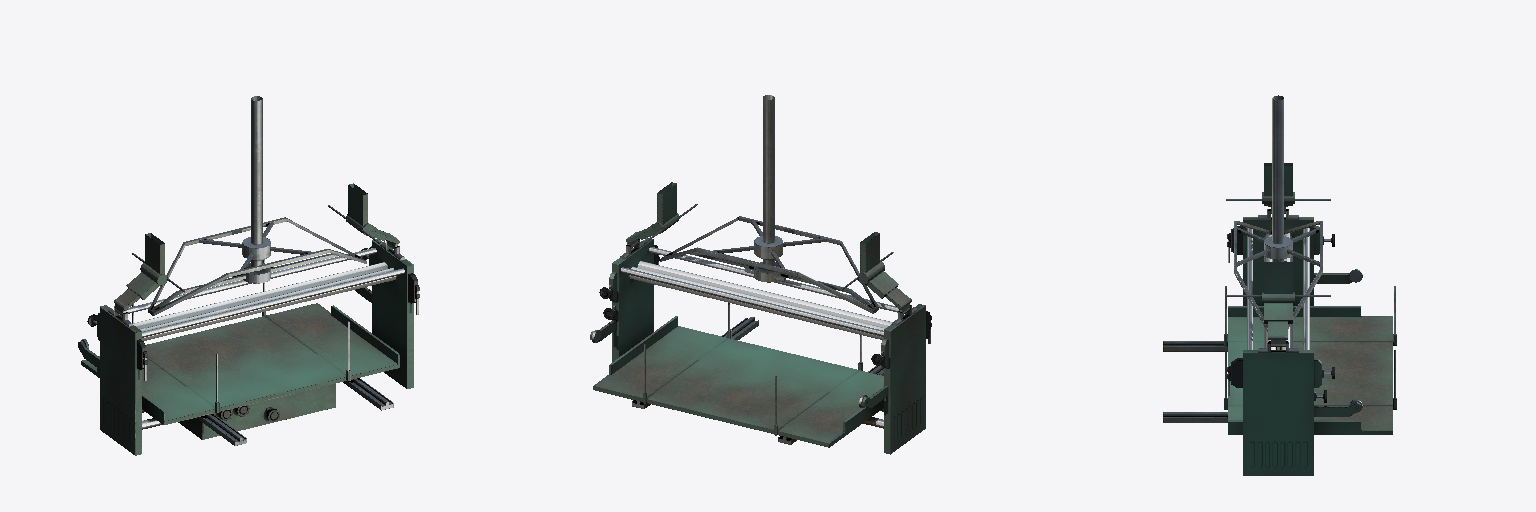
The picture shows the model from 3 angles: view 1: azimuth 30°, elevation 25°; view 2: azimuth 150°, elevation 25°; view 3: azimuth 270°, elevation 25°; orthographic projection.
Parts seen in each view (by area): view 1: rotor:pCube4; view 2: rotor:pCube4; view 3: rotor:pCube4.
Boxes of the visible parts, box(x1,y1,x2,y2) form: rotor:pCube4: box(78, 96, 419, 455); rotor:pCube4: box(590, 95, 931, 454); rotor:pCube4: box(1163, 95, 1396, 475).
Size of the model in its own units: 6.26 by 6.68 by 4.47.
1 materials, 1 textured.